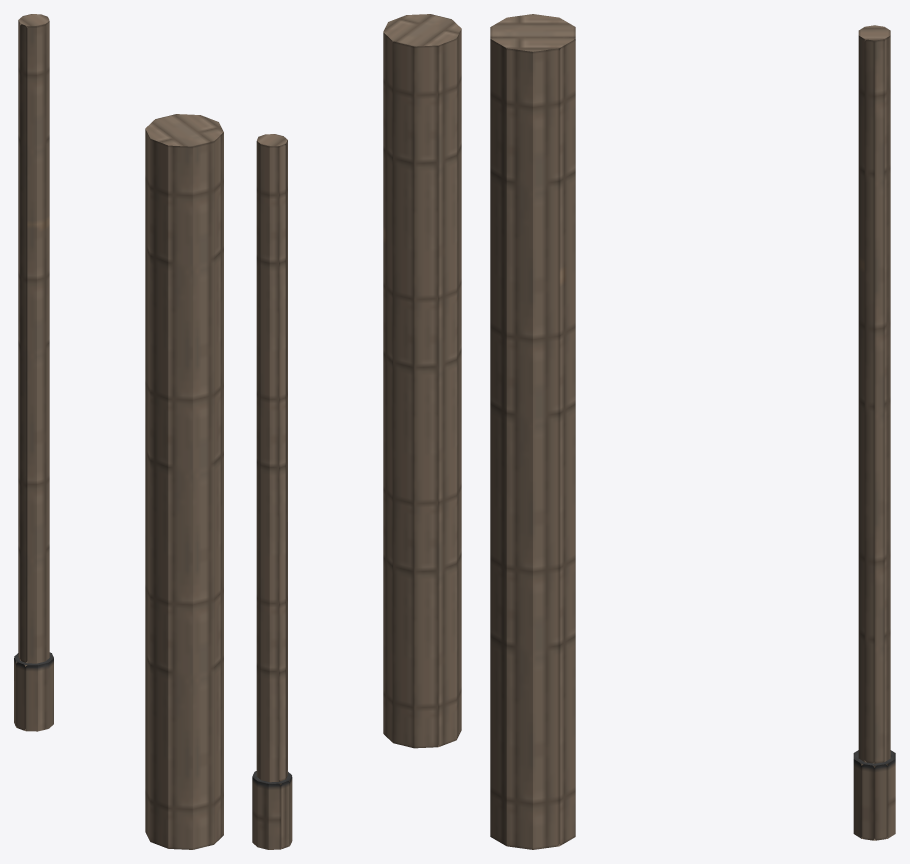
File: Sticks.fbx
3 views of the same model, side by side, from view 1: azimuth 30°, elevation 25°; view 2: azimuth 150°, elevation 25°; view 3: azimuth 270°, elevation 25° (orthographic). The views are drawn at different scales.
Visible parts, largest first — view 1: cylinder, cylinder_1; view 2: cylinder, cylinder_1; view 3: cylinder, cylinder_1.
Part boxes in pixels (x1,y1,x2,y2): cylinder: (145,114,223,849); cylinder_1: (14,14,53,731); cylinder: (383,14,461,748); cylinder_1: (252,134,292,849); cylinder: (490,14,575,849); cylinder_1: (853,25,895,840).
Size of the model in its own units: 105 by 1031 by 474.
Materials: 1 (1 with a texture image).
